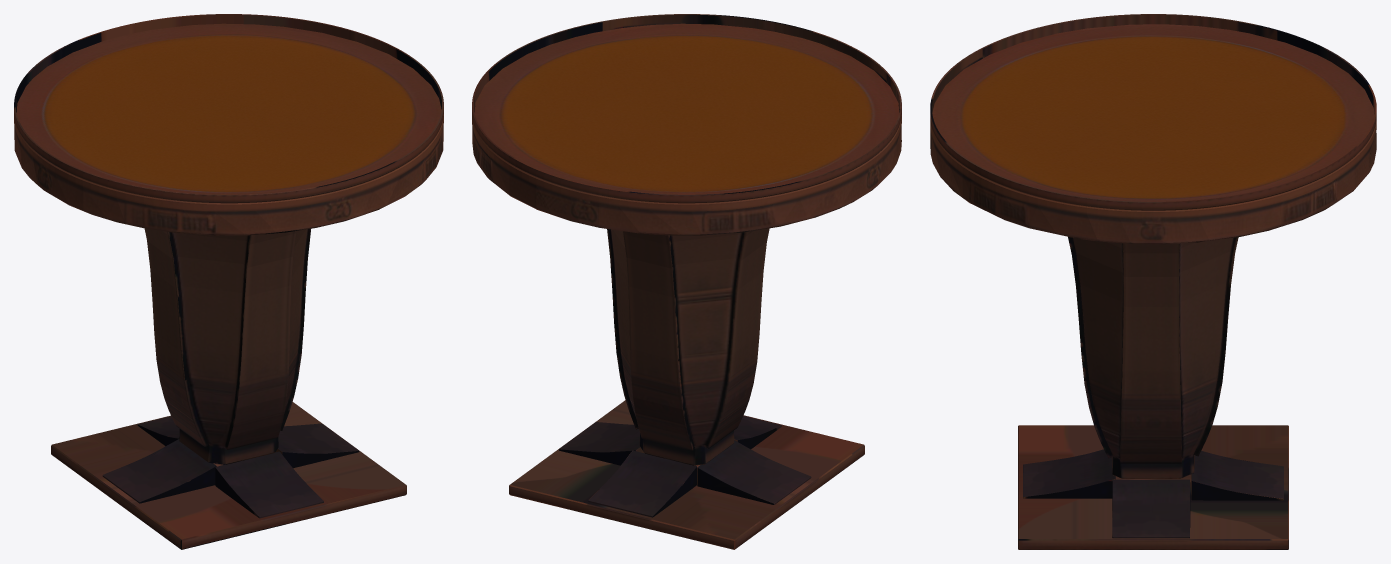
File: edited_mesh.glb
3 views of the same model, side by side, from view 1: azimuth 30°, elevation 25°; view 2: azimuth 150°, elevation 25°; view 3: azimuth 270°, elevation 25° (orthographic). The views are drawn at different scales.
Parts seen in each view (by area): view 1: solid_001_wire; view 2: solid_001_wire; view 3: solid_001_wire.
Part boxes in pixels (x1,y1,x2,y2): solid_001_wire: (14,14,443,549); solid_001_wire: (472,14,901,549); solid_001_wire: (930,14,1376,549).
Size of the model in its own units: 1.38 by 1.31 by 1.38.
1 material, 1 textured.
